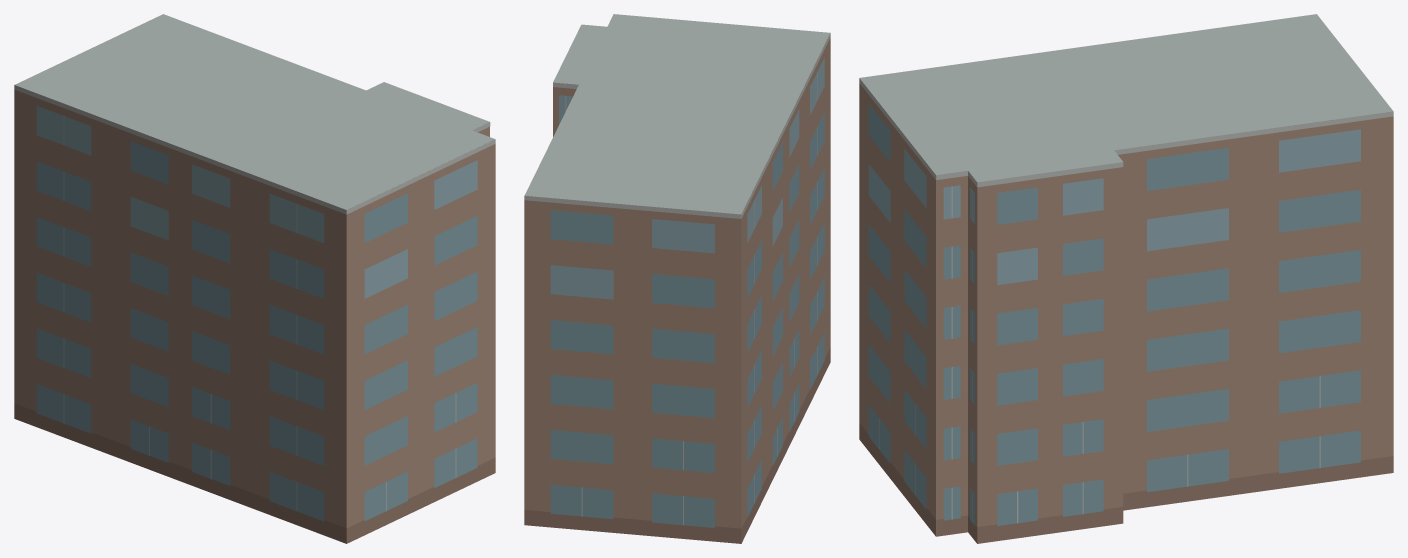
File: survey-upis-32983571.glb
3 views of the same model, side by side, from view 1: azimuth 30°, elevation 25°; view 2: azimuth 150°, elevation 25°; view 3: azimuth 270°, elevation 25° (orthographic). The views are drawn at different scales.
Visible parts, largest first — view 1: survey-upis-32983571.tmp; view 2: survey-upis-32983571.tmp; view 3: survey-upis-32983571.tmp.
Boxes of the visible parts, bbox=[...] form: survey-upis-32983571.tmp: bbox=[14, 14, 495, 543]; survey-upis-32983571.tmp: bbox=[524, 14, 830, 543]; survey-upis-32983571.tmp: bbox=[859, 14, 1393, 543].
Size of the model in its own units: 17.8 by 17.8 by 23.86.
